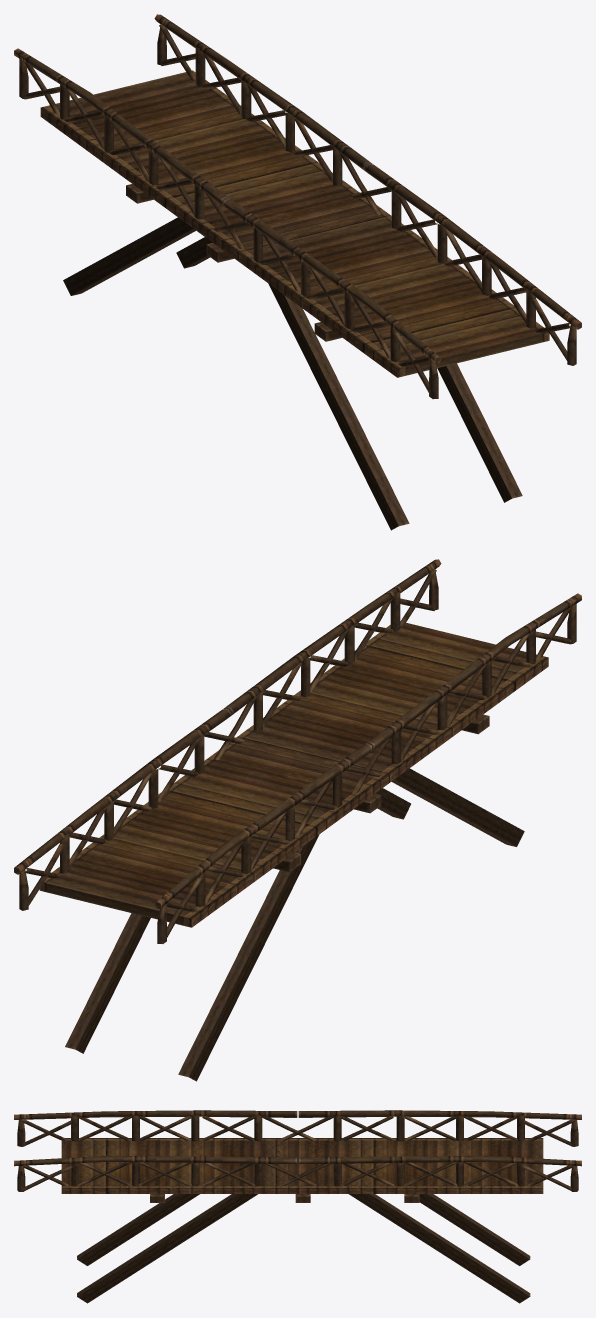
The picture shows the model from 3 angles, top to bottom: view 1: azimuth 30°, elevation 25°; view 2: azimuth 150°, elevation 25°; view 3: azimuth 270°, elevation 25°; orthographic projection. The views are drawn at different scales.
Visible parts, largest first — view 1: Object03; view 2: Object03; view 3: Object03.
Boxes of the visible parts, <box> form: Object03: <box>14,14,581,530</box>; Object03: <box>14,559,581,1081</box>; Object03: <box>14,1110,581,1303</box>.
Size of the model in its own units: 5.24 by 6.75 by 23.21.
1 material, 1 textured.
